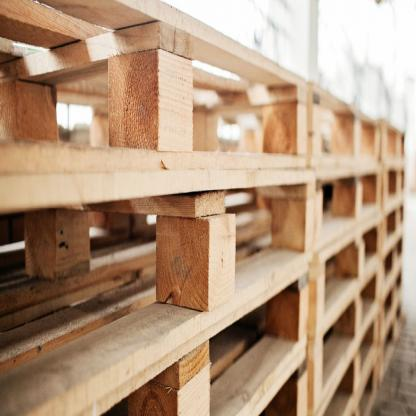BoxFace: (3, 170, 314, 415), (1, 0, 307, 169)
